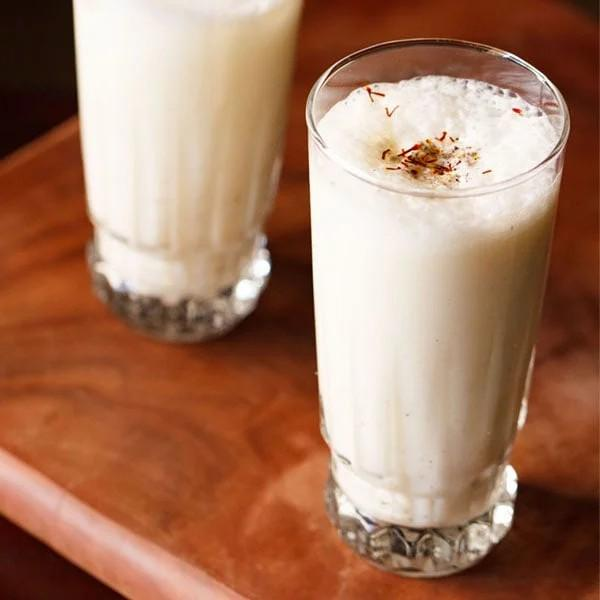Lassi: (311, 68, 567, 520), (61, 0, 305, 288)
